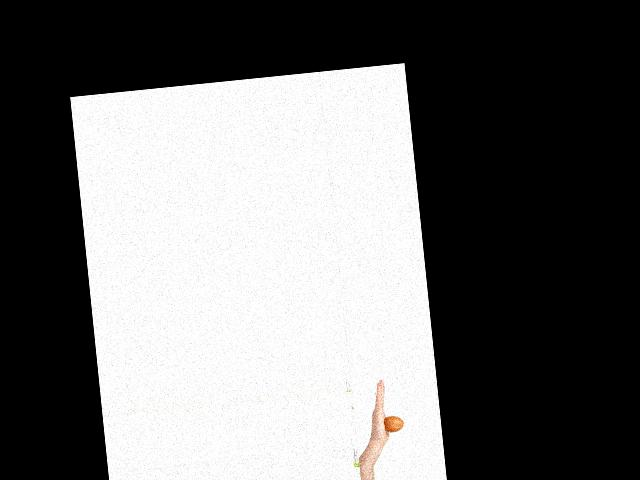egg: (382, 414, 403, 432)
